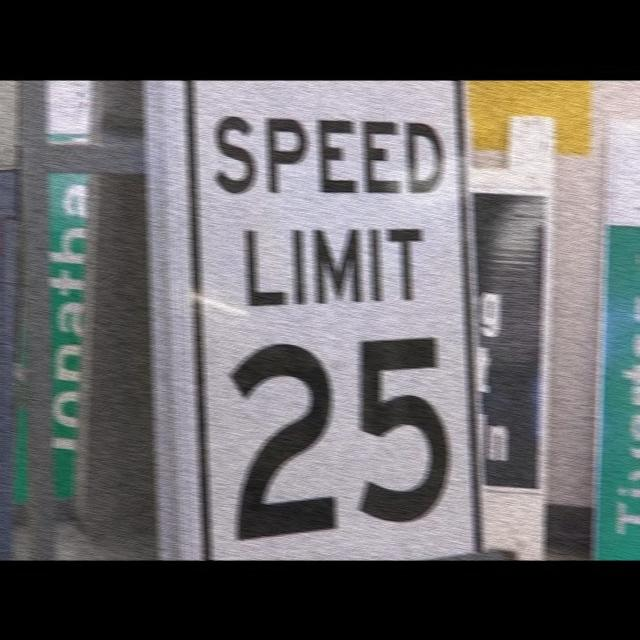speedLimit25: (183, 79, 483, 560)
